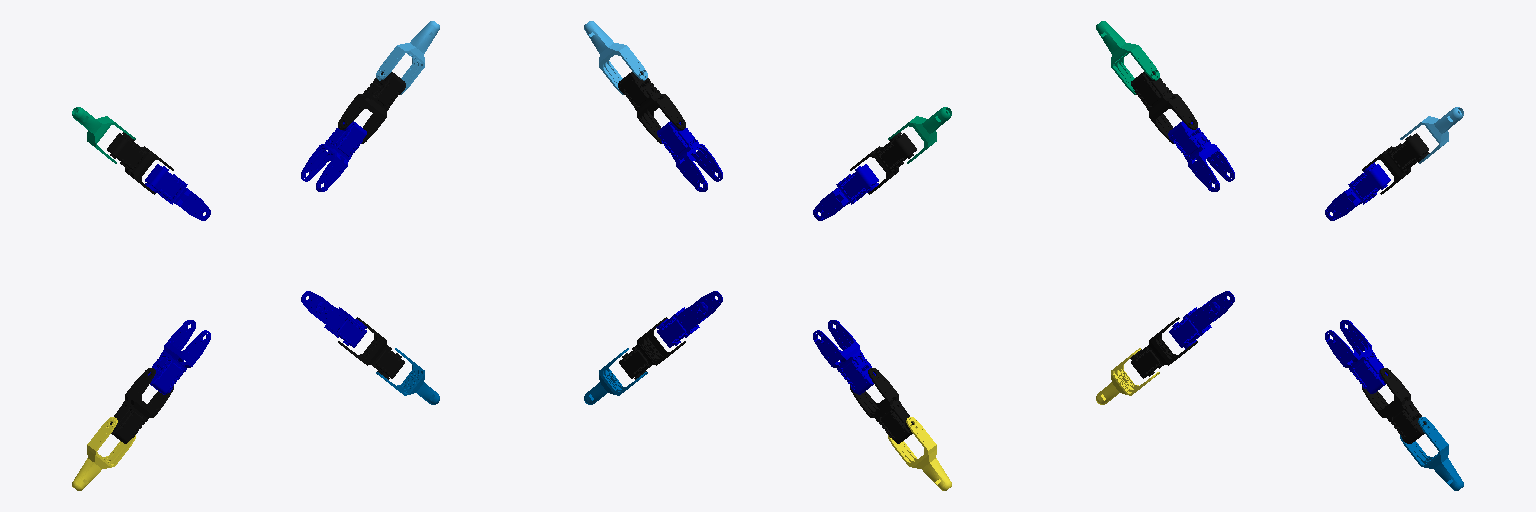
robot.urdf — sarge5_v1:
<?xml version="1.0"?>
<robot name="sarge5_v1">
    

    <material name="blue">
        <color rgba="0 0 0.8 1"/>
    </material>

    <material name="black">
        <color rgba="0 0 0 1"/>
    </material>

    <material name="grey">
        <color rgba="0.1 0.1 0.1 1"/>
    </material>

    <link name="base_link">
        <visual>
            <origin rpy="0 0 0" xyz="0 0 0"/>
            <geometry>
                <mesh filename="STL/sarge5_body_v2.stl" scale="0.001 0.001 0.001">
                </mesh>
            </geometry>
            <material name="black">
                
            </material>
        </visual>
        <collision>
            <geometry>
                <mesh filename="STL/sarge5_body_v2.stl" scale="0.001 0.001 0.001"/>
            </geometry>
        </collision>
        <inertial>
            <mass value="10"/>
            <inertia ixx="243701175549952" ixy="57579.476562" ixz="217196675072"
                                           iyy="468956406087680" iyz="1043384.375"
                                                                 izz="244071129939968"
            />
        </inertial>
        
    </link>

    <link name="front_left_hip">
        <visual>
            <origin rpy="1.57075 -0.78539816339 0" xyz="0 0 0"/>
            <geometry>
                <mesh filename="STL/sarge5_hip.stl" scale="0.01 0.01 0.01"/>
            </geometry>
            <material name="blue"/>
        </visual>
        <collision>
            <geometry>
                <mesh filename="STL/sarge5_hip.stl" scale="0.01 0.01 0.01"/>
            </geometry>
        </collision>
        <inertial>
            <mass value="3"/>
            <inertia ixx="0.4" ixy="0.0" ixz="0.0" iyy="0.4" iyz="0.0" izz="0.2"/>
        </inertial>
    </link>

    <link name="front_right_hip">
        <visual>
            <origin rpy="1.57075 -2.35619449 0" xyz="0 0 0"/>
            <geometry>
                <mesh filename="STL/sarge5_hip.stl" scale="0.01 0.01 0.01"/>
            </geometry>
            <material name="blue"/>
        </visual>
        <collision>
            <geometry>
                <mesh filename="STL/sarge5_hip.stl" scale="0.01 0.01 0.01"/>
            </geometry>
        </collision>
        <inertial>
            <mass value="3"/>
            <inertia ixx="0.4" ixy="0.0" ixz="0.0" iyy="0.4" iyz="0.0" izz="0.2"/>
        </inertial>
    </link>

    <link name="back_left_hip">
        <visual>
            <origin rpy="1.57075 0.78539816 0" xyz="0 0 0"/>
            <geometry>
                <mesh filename="STL/sarge5_hip.stl" scale="0.01 0.01 0.01"/>
            </geometry>
            <material name="blue"/>
        </visual>
        <collision>
            <geometry>
                <mesh filename="STL/sarge5_hip.stl" scale="0.01 0.01 0.01"/>
            </geometry>
        </collision>
        <inertial>
            <mass value="3"/>
            <inertia ixx="0.4" ixy="0.0" ixz="0.0" iyy="0.4" iyz="0.0" izz="0.2"/>
        </inertial>
    </link>

    <link name="back_right_hip">
        <visual>
            <origin rpy="1.57075 2.35619449 0" xyz="0 0 0"/>
            <geometry>
                <mesh filename="STL/sarge5_hip.stl" scale="0.01 0.01 0.01"/>
            </geometry>
            <material name="blue"/>
        </visual>
        <collision>
            <geometry>
                <mesh filename="STL/sarge5_hip.stl" scale="0.01 0.01 0.01"/>
            </geometry>
        </collision>
        <inertial>
            <mass value="3"/>
            <inertia ixx="0.4" ixy="0.0" ixz="0.0" iyy="0.4" iyz="0.0" izz="0.2"/>
        </inertial>
    </link>

    <joint name="base_to_front_left_hip" type="revolute">
        <axis xyz="0 1 0"/>
        <limit effort="1000.0" lower="-1.57075" upper="1.57075" velocity="10"/>
        <parent link="base_link"/>
        <child link="front_left_hip"/>
        <origin xyz="1.016639239 -0.24 1.016639239" rpy="0.0 0.0 0.0"/>
    </joint>
    <joint name="base_to_front_right_hip" type="revolute">
        <axis xyz="0 1 0"/>
        <limit effort="1000.0" lower="-1.57075" upper="1.57075" velocity="10"/>
        <parent link="base_link"/>
        <child link="front_right_hip"/>
        <origin xyz="-1.016639239 -0.24 1.016639239" rpy="0.0 0.0 0.0"/>
    </joint>
    <joint name="base_to_back_right_hip" type="revolute">
        <axis xyz="0 1 0"/>
        <limit effort="1000.0" lower="-1.57075" upper="1.57075" velocity="10"/>
        <parent link="base_link"/>
        <child link="back_right_hip"/>
        <origin xyz="-1.016639239 -0.24 -1.016639239" rpy="0.0 0.0 0.0"/>
    </joint>
    <joint name="base_to_back_left_hip" type="revolute">
        <axis xyz="0 1 0"/>
        <limit effort="1000.0" lower="-1.57075" upper="1.57075" velocity="10"/>
        <parent link="base_link"/>
        <child link="back_left_hip"/>
        <origin xyz="1.016639239 -0.24 -1.016639239" rpy="0.0 0.0 0.0"/>
    </joint>

    <link name="front_left_knee">
        <visual>
            <origin xyz="0.0 0.0 0.0" rpy="0.0 0.0 0.0"/>
            <geometry>
                <mesh filename="STL/sarge5_knee.stl" scale="0.01 0.01 0.01"/>
            </geometry>
            <material name="grey"/>
        </visual>
        <collision>
            <geometry>
                <mesh filename="STL/sarge5_knee.stl" scale="0.01 0.01 0.01"/>
            </geometry>
        </collision>
        <inertial>
            <mass value="3"/>
            <inertia ixx="0.4" ixy="0.0" ixz="0.0" iyy="0.4" iyz="0.0" izz="0.2"/>
        </inertial>
    </link>
    <link name="front_right_knee">
        <visual>
            <origin xyz="0.0 0.0 0.0" rpy="0.0 0.0 0.0"/>
            <geometry>
                <mesh filename="STL/sarge5_knee.stl" scale="0.01 0.01 0.01"/>
            </geometry>
            <material name="grey"/>
        </visual>
        <collision>
            <geometry>
                <mesh filename="STL/sarge5_knee.stl" scale="0.01 0.01 0.01"/>
            </geometry>
        </collision>
        <inertial>
            <mass value="3"/>
            <inertia ixx="0.4" ixy="0.0" ixz="0.0" iyy="0.4" iyz="0.0" izz="0.2"/>
        </inertial>
    </link>
    <link name="back_right_knee">
        <visual>
            <origin xyz="0.0 0.0 0.0" rpy="0.0 0.0 0.0"/>
            <geometry>
                <mesh filename="STL/sarge5_knee.stl" scale="0.01 0.01 0.01"/>
            </geometry>
            <material name="grey"/>
        </visual>
        <collision>
            <geometry>
                <mesh filename="STL/sarge5_knee.stl" scale="0.01 0.01 0.01"/>
            </geometry>
        </collision>
        <inertial>
            <mass value="3"/>
            <inertia ixx="0.4" ixy="0.0" ixz="0.0" iyy="0.4" iyz="0.0" izz="0.2"/>
        </inertial>
    </link>
    <link name="back_left_knee">
        <visual>
            <origin xyz="0.0 0.0 0.0" rpy="0.0 0.0 0.0"/>
            <geometry>
                <mesh filename="STL/sarge5_knee.stl" scale="0.01 0.01 0.01"/>
            </geometry>
            <material name="grey"/>
        </visual>
        <collision>
            <geometry>
                <mesh filename="STL/sarge5_knee.stl" scale="0.01 0.01 0.01"/>
            </geometry>
        </collision>
        <inertial>
            <mass value="3"/>
            <inertia ixx="0.4" ixy="0.0" ixz="0.0" iyy="0.4" iyz="0.0" izz="0.2"/>
        </inertial>
    </link>

    <joint name="front_left_hip_to_front_left_knee" type="revolute">
        <axis xyz="0 0 1"/>
        <limit effort="1000.0" lower="-1.57075" upper="1.57075" velocity="10"/>
        <parent link="front_left_hip"/>
        <child link="front_left_knee"/>
        <origin xyz="0.6611448404 0 0.6611448404" rpy="0 -0.7853981634 0"/>
    </joint>
    <joint name="front_right_hip_to_front_right_knee" type="revolute">
        <axis xyz="0 0 1"/>
        <limit effort="1000.0" lower="-1.57075" upper="1.57075" velocity="10"/>
        <parent link="front_right_hip"/>
        <child link="front_right_knee"/>
        <origin xyz="-0.6611448404 0 0.6611448404" rpy="0 -2.35619449 0"/>
    </joint>
    <joint name="back_right_hip_to_back_right_knee" type="revolute">
        <axis xyz="0 0 1"/>
        <limit effort="1000.0" lower="-1.57075" upper="1.57075" velocity="10"/>
        <parent link="back_right_hip"/>
        <child link="back_right_knee"/>
        <origin xyz="-0.6611448404 0 -0.6611448404" rpy="0 2.35619449 0"/>
    </joint>
    <joint name="back_left_hip_to_back_left_knee" type="revolute">
        <axis xyz="0 0 1"/>
        <limit effort="1000.0" lower="-1.57075" upper="1.57075" velocity="10"/>
        <parent link="back_left_hip"/>
        <child link="back_left_knee"/>
        <origin xyz="0.6611448404 0 -0.6611448404" rpy="0 0.7853981634 0"/>
    </joint>


    <link name="front_left_foot">
        <visual>
            <origin xyz="0 0 0" rpy="0 0 0"/>
            <geometry>
                <mesh filename="STL/sarge5_foot.stl" scale="0.01 0.01 0.01"/>
            </geometry>
        </visual>
        <collision>
            <geometry>
                <mesh filename="STL/sarge5_foot.stl" scale="0.01 0.01 0.01"/>
            </geometry>
        </collision>
        <inertial>
            <mass value="3"/>
            <inertia ixx="0.4" ixy="0.0" ixz="0.0" iyy="0.4" iyz="0.0" izz="0.2"/>
        </inertial>
    </link>
    <link name="front_right_foot">
        <visual>
            <origin xyz="0 0 0" rpy="0 0 0"/>
            <geometry>
                <mesh filename="STL/sarge5_foot.stl" scale="0.01 0.01 0.01"/>
            </geometry>
        </visual>
        <collision>
            <geometry>
                <mesh filename="STL/sarge5_foot.stl" scale="0.01 0.01 0.01"/>
            </geometry>
        </collision>
        <inertial>
            <mass value="3"/>
            <inertia ixx="0.4" ixy="0.0" ixz="0.0" iyy="0.4" iyz="0.0" izz="0.2"/>
        </inertial>
    </link>
    <link name="back_right_foot">
        <visual>
            <origin xyz="0 0 0" rpy="0 0 0"/>
            <geometry>
                <mesh filename="STL/sarge5_foot.stl" scale="0.01 0.01 0.01"/>
            </geometry>
        </visual>
        <collision>
            <geometry>
                <mesh filename="STL/sarge5_foot.stl" scale="0.01 0.01 0.01"/>
            </geometry>
        </collision>
        <inertial>
            <mass value="3"/>
            <inertia ixx="0.4" ixy="0.0" ixz="0.0" iyy="0.4" iyz="0.0" izz="0.2"/>
        </inertial>
    </link>
    <link name="back_left_foot">
        <visual>
            <origin xyz="0 0 0" rpy="0 0 0"/>
            <geometry>
                <mesh filename="STL/sarge5_foot.stl" scale="0.01 0.01 0.01"/>
            </geometry>
        </visual>
        <collision>
            <geometry>
                <mesh filename="STL/sarge5_foot.stl" scale="0.01 0.01 0.01"/>
            </geometry>
        </collision>
        <inertial>
            <mass value="3"/>
            <inertia ixx="0.4" ixy="0.0" ixz="0.0" iyy="0.4" iyz="0.0" izz="0.2"/>
        </inertial>
    </link>

    <joint name="front_left_knee_to_front_left_foot" type="revolute">
        <axis xyz="0 0 1"/>
        <limit effort="1000.0" lower="-1.57075" upper="1.57075" velocity="10"/>
        <parent link="front_left_knee"/>
        <child link="front_left_foot"/>
        <origin xyz="0.935 0 0" rpy="0 0 0"/>
    </joint>
    <joint name="front_right_knee_to_front_right_foot" type="revolute">
        <axis xyz="0 0 1"/>
        <limit effort="1000.0" lower="-1.57075" upper="1.57075" velocity="10"/>
        <parent link="front_right_knee"/>
        <child link="front_right_foot"/>
        <origin xyz="0.935 0 0" rpy="0 0 0"/>
    </joint>
    <joint name="back_right_knee_to_back_right_foot" type="revolute">
        <axis xyz="0 0 1"/>
        <limit effort="1000.0" lower="-1.57075" upper="1.57075" velocity="10"/>
        <parent link="back_right_knee"/>
        <child link="back_right_foot"/>
        <origin xyz="0.935 0 0" rpy="0 0 0"/>
    </joint>
    <joint name="back_left_knee_to_back_left_foot" type="revolute">
        <axis xyz="0 0 1"/>
        <limit effort="1000.0" lower="-1.57075" upper="1.57075" velocity="10"/>
        <parent link="back_left_knee"/>
        <child link="back_left_foot"/>
        <origin xyz="0.935 0 0" rpy="0 0 0"/>
    </joint>
    
</robot>

--- Render facts (derived) ---
The picture shows the robot from 3 angles, left to right: view 1: azimuth 30°, elevation 25°; view 2: azimuth 150°, elevation 25°; view 3: azimuth 330°, elevation 25°; orthographic projection.
Robot: sarge5_v1 — 13 links, 12 joints (12 revolute); root link base_link; default pose: all joints at 0.
Links seen in each view (by area): view 1: back_right_hip, front_left_hip, front_left_knee, back_right_knee, back_left_hip, front_right_hip, back_right_foot, front_left_foot, front_right_knee, back_left_knee, back_left_foot, front_right_foot; view 2: back_right_hip, front_left_hip, front_left_knee, back_right_knee, back_left_hip, front_right_hip, back_right_foot, front_left_foot, back_left_knee, front_right_knee, front_right_foot, back_left_foot; view 3: front_right_hip, back_left_hip, back_left_knee, front_right_knee, front_left_hip, back_right_hip, front_right_foot, back_left_foot, front_left_knee, back_right_knee, back_right_foot, front_left_foot.
Link boxes in pixels (<box>): back_right_hip: <box>148,320,210,394</box>; front_left_hip: <box>301,121,366,191</box>; front_left_knee: <box>338,72,405,143</box>; back_right_knee: <box>110,368,173,443</box>; back_left_hip: <box>301,291,367,347</box>; front_right_hip: <box>145,164,210,220</box>; back_right_foot: <box>72,417,135,490</box>; front_left_foot: <box>376,21,439,94</box>; front_right_knee: <box>107,132,173,194</box>; back_left_knee: <box>338,317,404,379</box>; back_left_foot: <box>376,348,439,404</box>; front_right_foot: <box>72,107,135,163</box>; back_right_hip: <box>813,320,875,394</box>; front_left_hip: <box>657,121,722,191</box>; front_left_knee: <box>618,72,685,143</box>; back_right_knee: <box>850,368,913,443</box>; back_left_hip: <box>656,291,722,347</box>; front_right_hip: <box>813,164,878,220</box>; back_right_foot: <box>888,417,951,490</box>; front_left_foot: <box>584,21,647,94</box>; back_left_knee: <box>619,317,685,379</box>; front_right_knee: <box>850,132,916,194</box>; front_right_foot: <box>888,107,951,163</box>; back_left_foot: <box>584,348,647,404</box>; front_right_hip: <box>1168,121,1234,191</box>; back_left_hip: <box>1325,320,1387,393</box>; back_left_knee: <box>1362,368,1425,443</box>; front_right_knee: <box>1131,72,1197,143</box>; front_left_hip: <box>1325,162,1390,220</box>; back_right_hip: <box>1169,291,1234,349</box>; front_right_foot: <box>1096,21,1159,94</box>; back_left_foot: <box>1400,417,1463,490</box>; front_left_knee: <box>1362,133,1429,194</box>; back_right_knee: <box>1130,317,1197,378</box>; back_right_foot: <box>1096,348,1159,404</box>; front_left_foot: <box>1400,107,1463,163</box>.
Size in the robot's own frame: 6.32 by 0.488 by 6.32 metres.
12 mesh visuals loaded from 4 distinct referenced files (3 binary STL); not drawn: 1 (reference not matched to a file when rendering).
